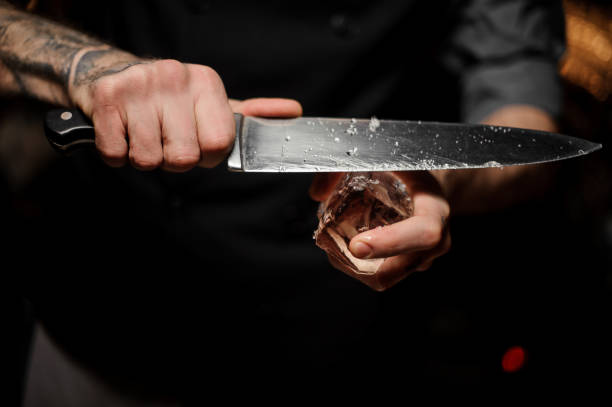knife: (39, 108, 608, 179)
